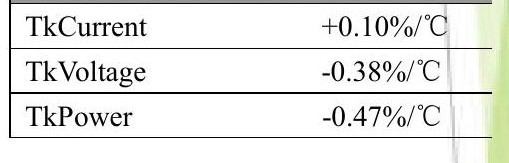table: (5, 1, 498, 142)
table column: (20, 5, 193, 139), (312, 4, 470, 139)
table row: (13, 96, 494, 135), (14, 7, 491, 45), (13, 52, 492, 89)
